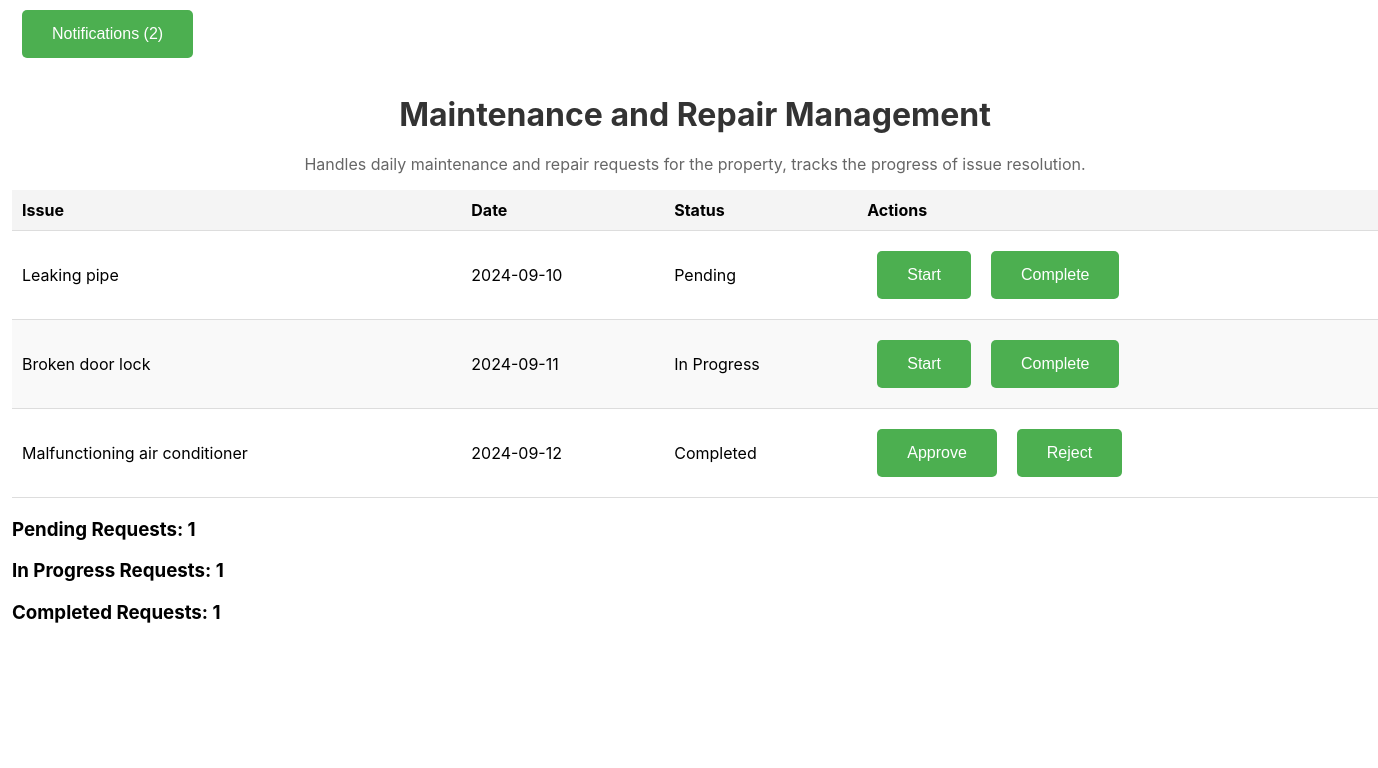
Test: MaintenanceRepair Component › should follow the correct workflow from Pending to Completed and back to In Progress
This screenshot has width=1378, height=768.
// 点击 "Complete" 按钮将状态变为 "Completed"
Click the button "Complete" in the row of "Leaking pipe".
click(1055, 274)  # box [991,250,1120,298]
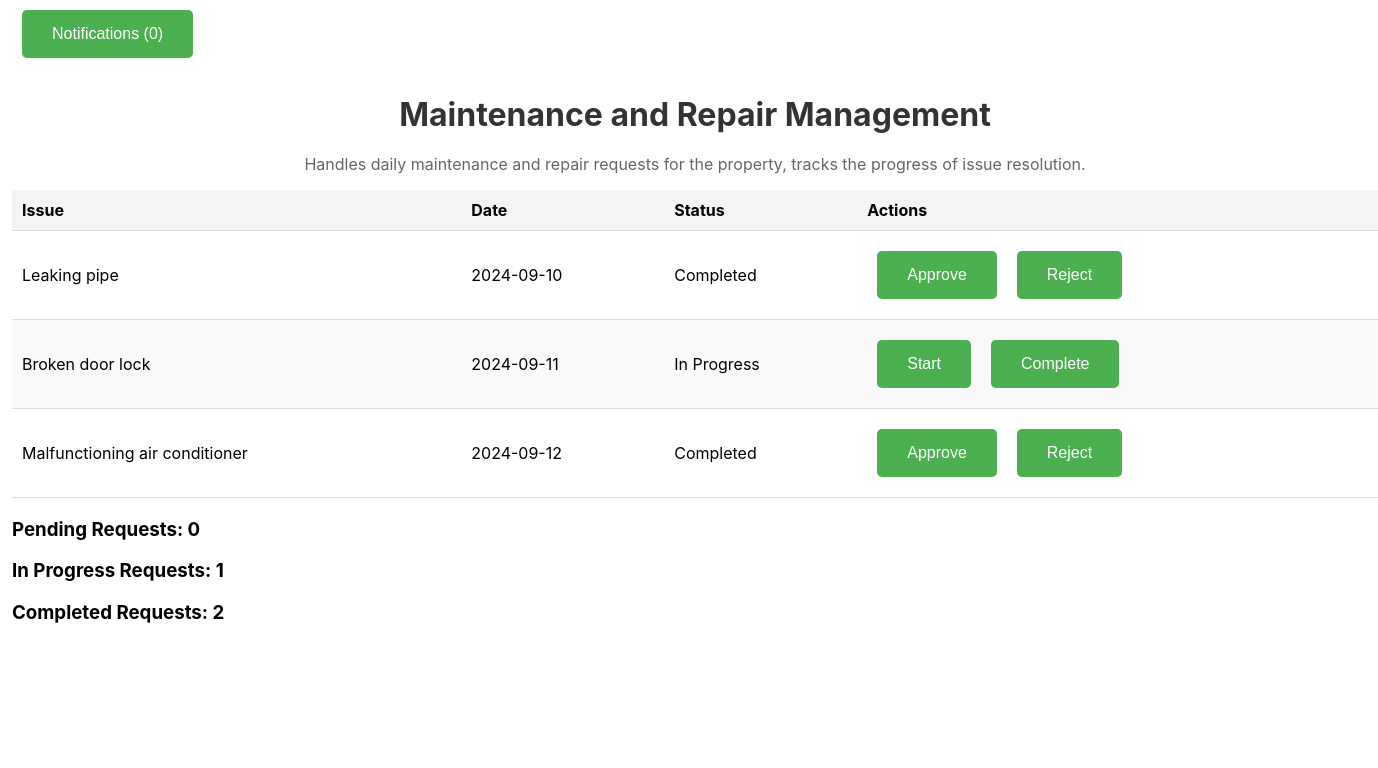
Expected: the text "Completed" in the row of "Leaking pipe" is shown, [674,264,757,284]
Expected: the button "Approve" in the row of "Leaking pipe" is shown, [877,250,997,298]
Expected: the button "Reject" in the row of "Leaking pipe" is shown
// 点击 "Reject" 按钮后状态变为 "In Progress"
Click the button "Reject" in the row of "Leaking pipe".
click(1070, 274)  # box [1017,250,1122,298]
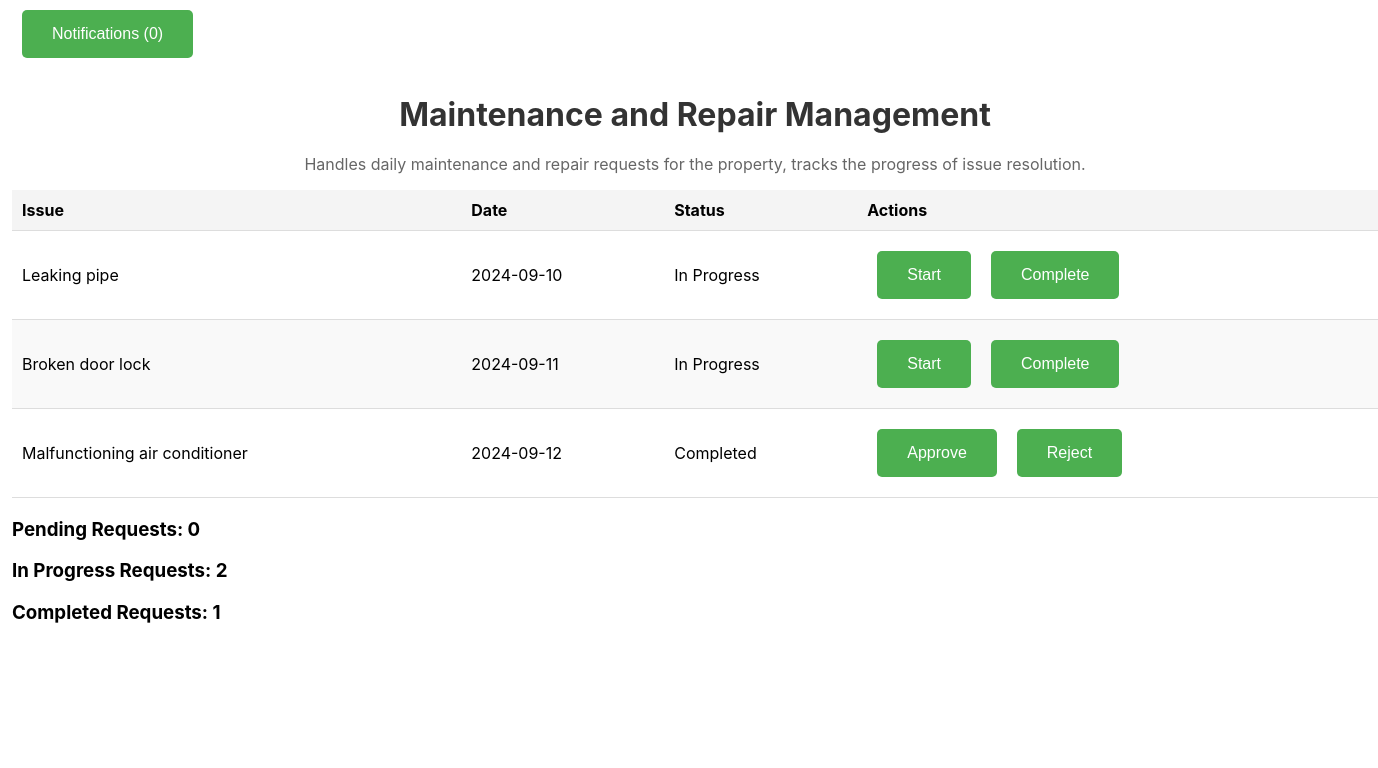
Expected: the text "In Progress" in the row of "Leaking pipe" is shown, [674,264,760,284]
// 再次点击 "Complete" 按钮将状态变为 "Completed"
Click the button "Complete" in the row of "Leaking pipe".
click(1055, 274)  # box [991,250,1120,298]
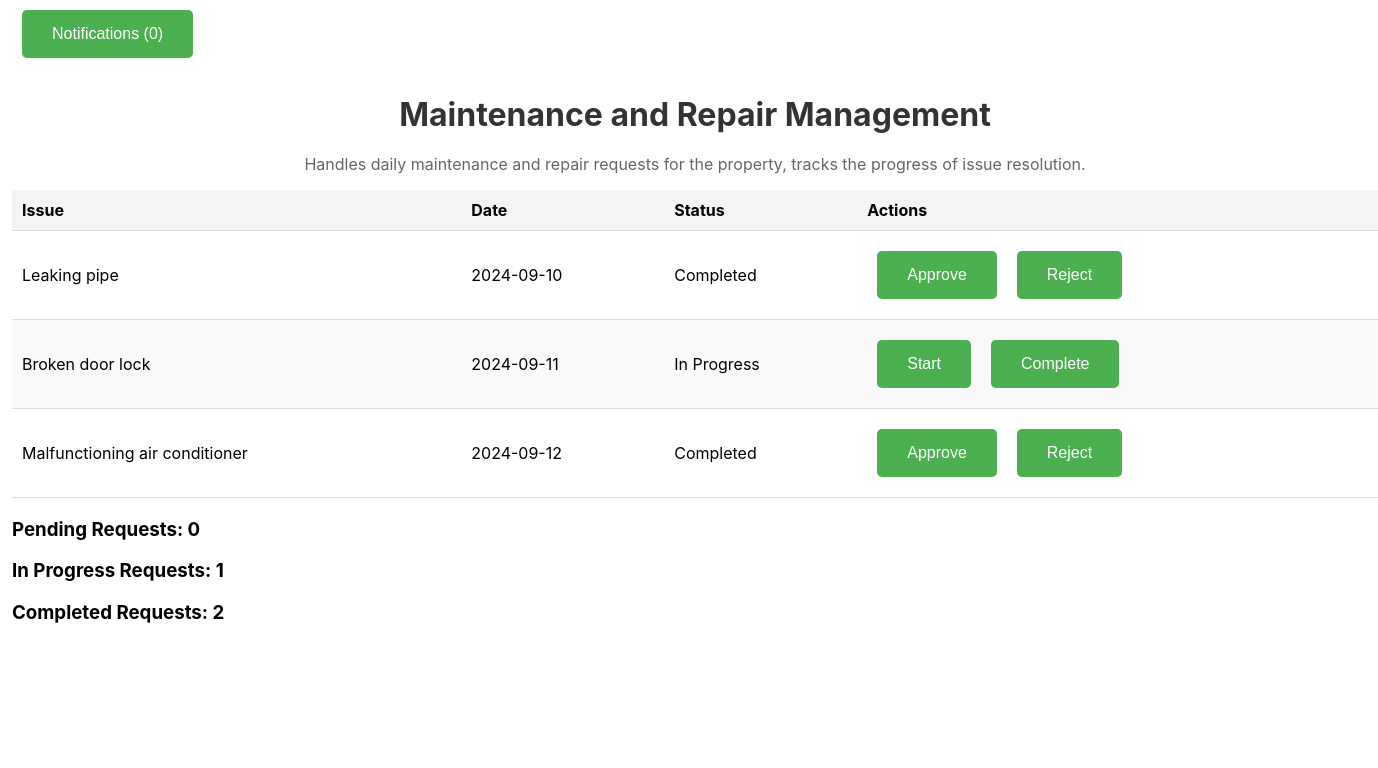
Expected: the text "Completed" in the row of "Leaking pipe" is shown, [674,264,757,284]
// 点击 "Approve" 按钮后，验证状态是否变为 "Finished"
Click the button "Approve" in the row of "Leaking pipe".
click(937, 274)  # box [877,250,997,298]
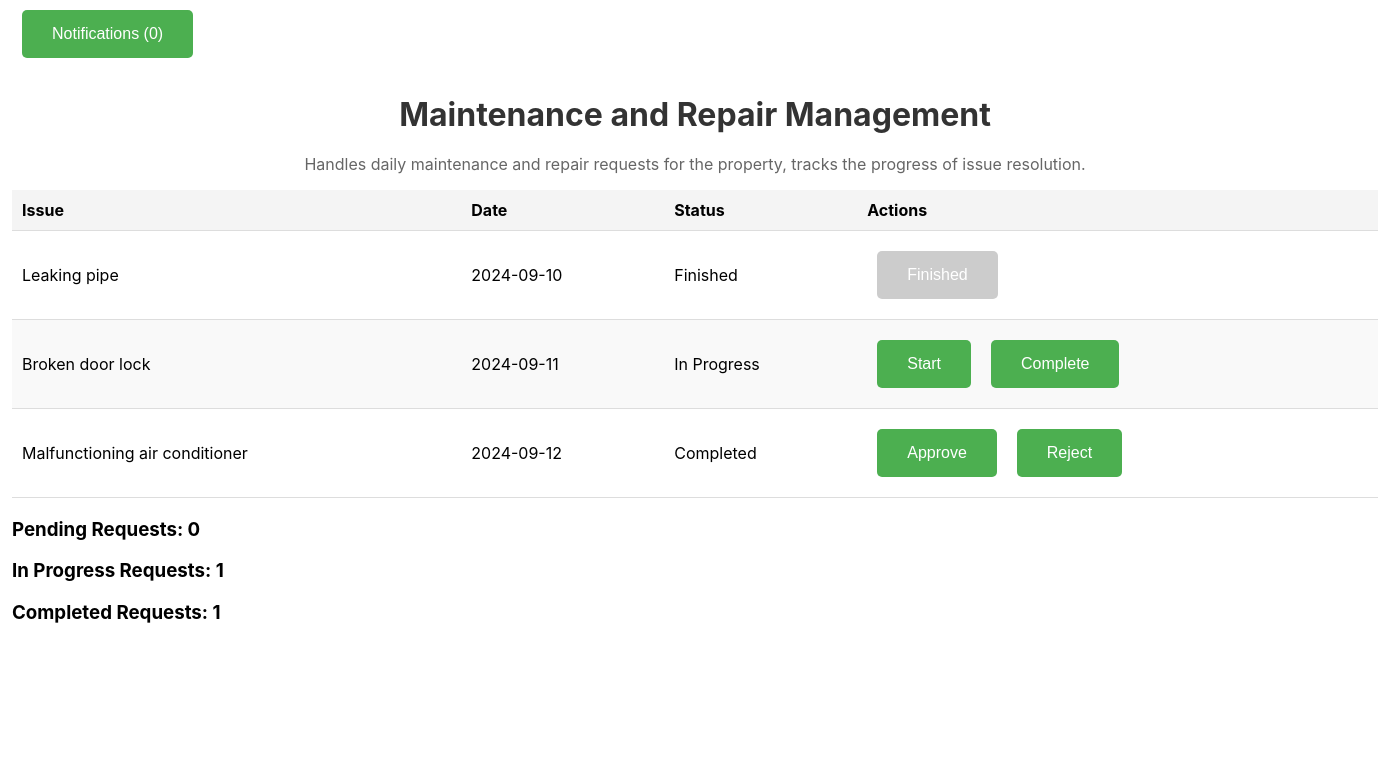
Expected: the 1st text "Finished" is shown, [664,230,857,319]
